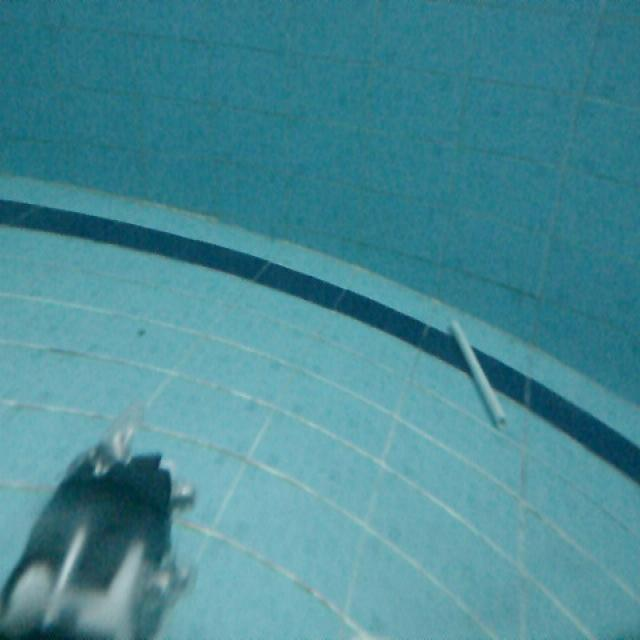Cube: (450, 319, 507, 430)
